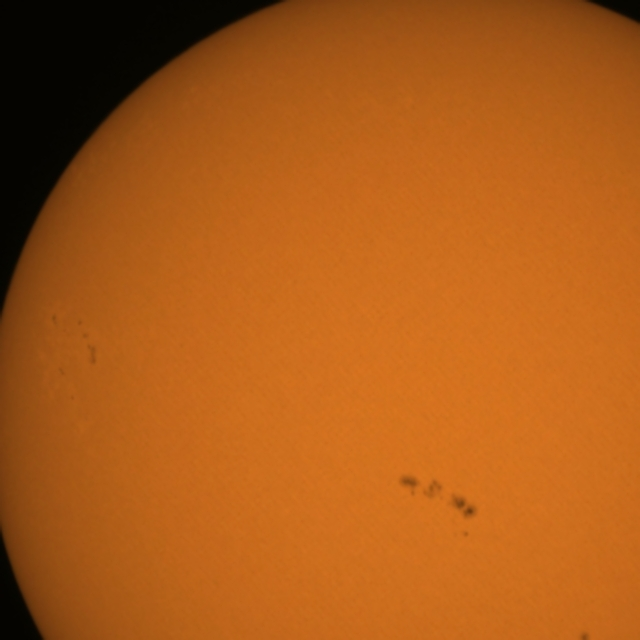sunspot: (415, 477, 475, 519), (398, 474, 447, 501), (81, 326, 100, 370), (77, 318, 95, 350), (577, 630, 592, 640), (57, 366, 67, 378), (50, 313, 58, 326), (461, 529, 470, 539)
